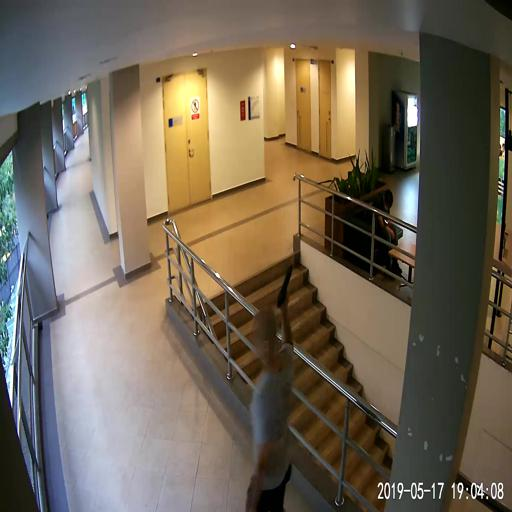pistol: (278, 265, 292, 304)
